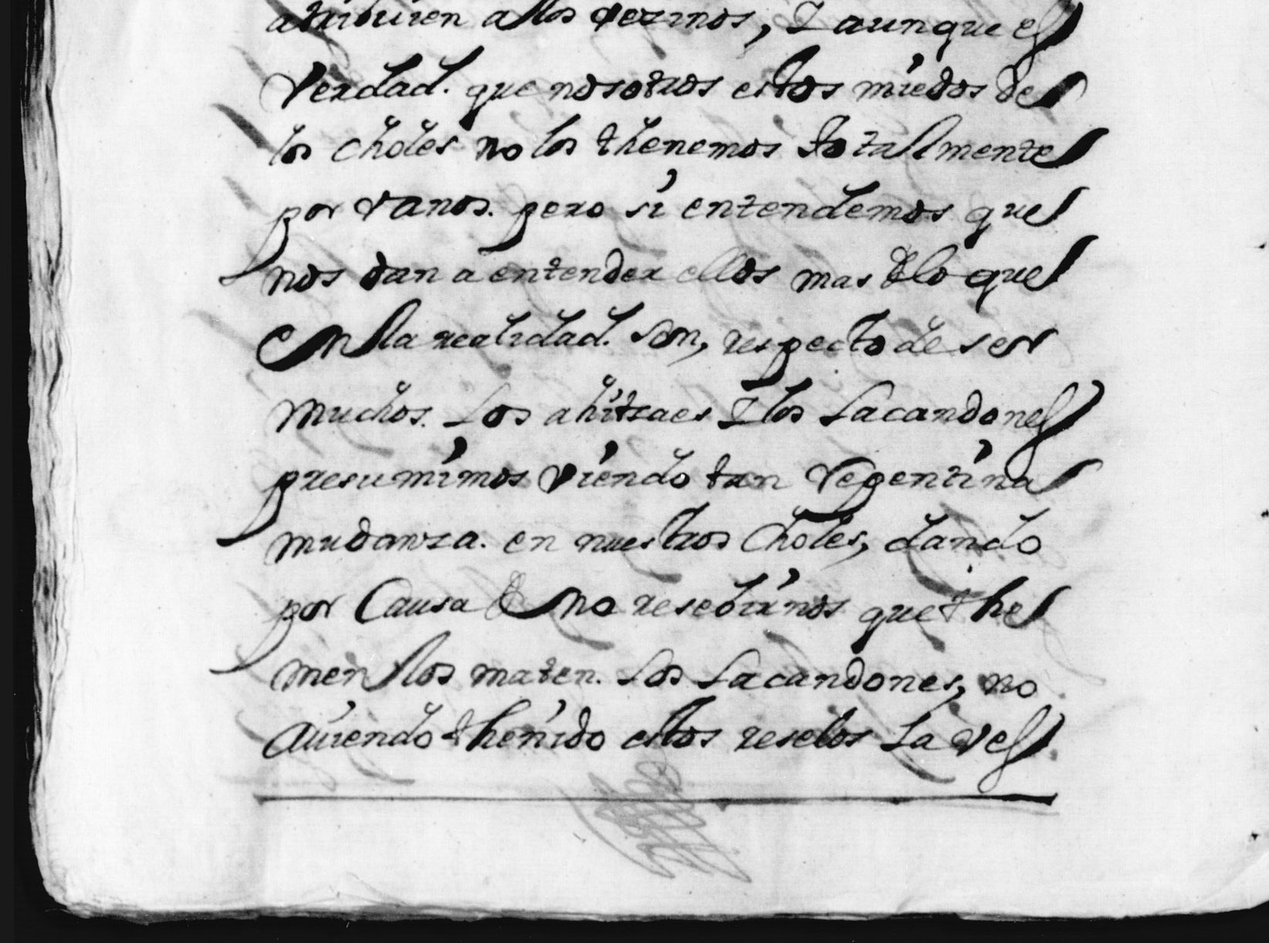lacandon: (819, 380, 1104, 481), (696, 648, 963, 692)
